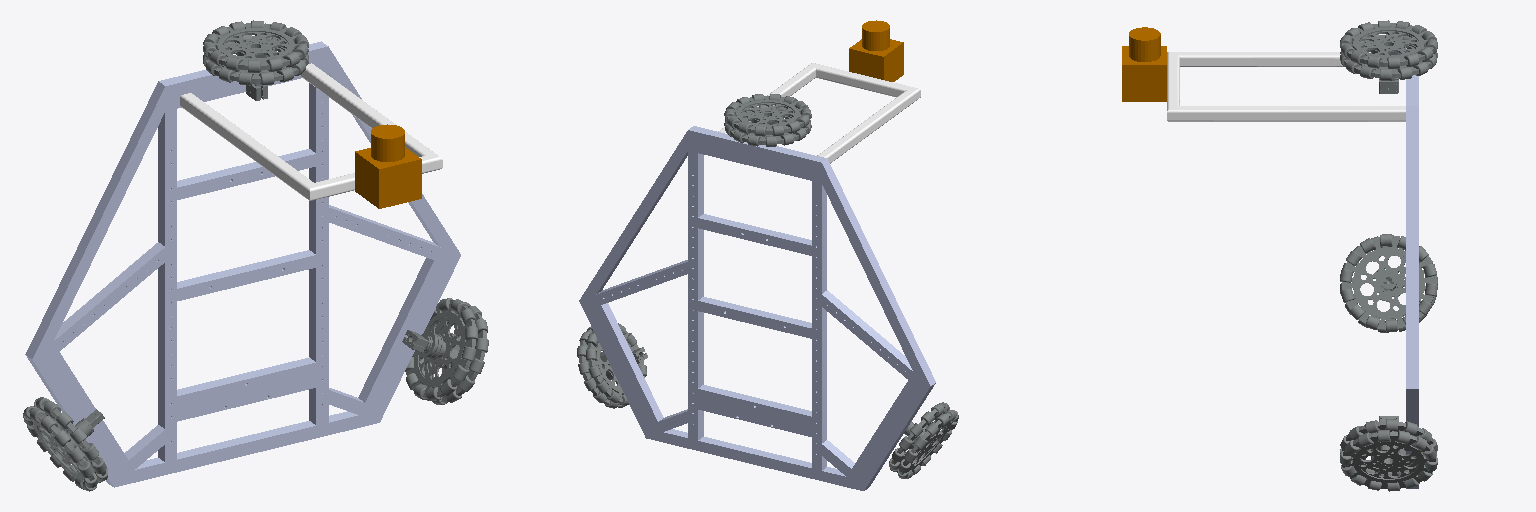
The robot description file, URDF, robot "xiangquancars":
<?xml version="1.0" encoding="utf-8"?>
<!-- This URDF was automatically created by SolidWorks to URDF Exporter! Originally created by [author] ([email redacted]) 
     Commit Version: 1.6.0-4-g7f85cfe  Build Version: 1.6.7995.38578
     For more information, please see http://wiki.ros.org/sw_urdf_exporter -->
<robot
  name="xiangquancars">
  <link
    name="base_link">
    <inertial>
      <origin
        xyz="0.135012009163579 -0.01 -0.34251867420735"
        rpy="0 0 0" />
      <mass
        value="2.15731792123271" />
      <inertia
        ixx="0.077714394818515"
        ixy="-3.24754536479821E-19"
        ixz="3.41867749109593E-06"
        iyy="0.151582220798309"
        iyz="-5.37521404282621E-18"
        izz="0.0740116471745425" />
    </inertial>
    <visual>
      <origin
        xyz="0 0 0"
        rpy="0 0 0" />
      <geometry>
        <mesh
          filename="package://xiangquancars/meshes/base_link.STL" />
      </geometry>
      <material
        name="">
        <color
          rgba="0.792156862745098 0.819607843137255 0.933333333333333 1" />
      </material>
    </visual>
    <collision>
      <origin
        xyz="0 0 0"
        rpy="0 0 0" />
      <geometry>
        <mesh
          filename="package://xiangquancars/meshes/base_link.STL" />
      </geometry>
    </collision>
  </link>
  <link
    name="A_wheel">
    <inertial>
      <origin
        xyz="-0.0633154932852962 -0.0286354919950985 0.00966380806253122"
        rpy="0 0 0" />
      <mass
        value="0.552862123998363" />
      <inertia
        ixx="0.000386629247402716"
        ixy="-0.000103264981827922"
        ixz="1.03469120540752E-06"
        iyy="0.000420834137350362"
        iyz="1.19990651368242E-06"
        izz="0.000295306068033301" />
    </inertial>
    <visual>
      <origin
        xyz="0 0 0"
        rpy="0 0 0" />
      <geometry>
        <mesh
          filename="package://xiangquancars/meshes/A_wheel.STL" />
      </geometry>
      <material
        name="">
        <color
          rgba="0.529411764705882 0.549019607843137 0.549019607843137 1" />
      </material>
    </visual>
    <collision>
      <origin
        xyz="0 0 0"
        rpy="0 0 0" />
      <geometry>
        <mesh
          filename="package://xiangquancars/meshes/A_wheel.STL" />
      </geometry>
    </collision>
  </link>
  <joint
    name="A_wheel"
    type="fixed">
    <origin
      xyz="0.0752254372121732 -0.0144894461303554 0.0415000000000001"
      rpy="-1.5707963267949 -0.706621920095397 2.80499344070519" />
    <parent
      link="base_link" />
    <child
      link="A_wheel" />
    <axis
      xyz="-0.649268249707963 0.760559491375368 0" />
  </joint>
  <link
    name="B_wheel">
    <inertial>
      <origin
        xyz="-0.0643008339790522 -0.0275639301432439 0.00977194749589866"
        rpy="0 0 0" />
      <mass
        value="0.587356590698773" />
      <inertia
        ixx="0.000391237308741192"
        ixy="-0.000107303593018306"
        ixz="6.46903269603801E-07"
        iyy="0.000425819438449392"
        iyz="1.45709546281757E-06"
        izz="0.000303633656277911" />
    </inertial>
    <visual>
      <origin
        xyz="0 0 0"
        rpy="0 0 0" />
      <geometry>
        <mesh
          filename="package://xiangquancars/meshes/B_wheel.STL" />
      </geometry>
      <material
        name="">
        <color
          rgba="0.529411764705882 0.549019607843137 0.549019607843137 1" />
      </material>
    </visual>
    <collision>
      <origin
        xyz="0 0 0"
        rpy="0 0 0" />
      <geometry>
        <mesh
          filename="package://xiangquancars/meshes/B_wheel.STL" />
      </geometry>
    </collision>
  </link>
  <joint
    name="B_wheel"
    type="fixed">
    <origin
      xyz="0.464756497888794 0.0203801440269274 -0.507774205882736"
      rpy="0.605610009666 0.1072970097415 0.806734396814752" />
    <parent
      link="base_link" />
    <child
      link="B_wheel" />
    <axis
      xyz="-0.687881235804038 0.551443986385019 -0.471941665154189" />
  </joint>
  <link
    name="C_wheel">
    <inertial>
      <origin
        xyz="-0.0586976224812866 -0.0334898811864578 0.0110216647816704"
        rpy="0 0 0" />
      <mass
        value="0.444837167197507" />
      <inertia
        ixx="0.000374245789326278"
        ixy="-0.000101510368884489"
        ixz="3.49790854466878E-08"
        iyy="0.000407966742314441"
        iyz="-7.74730768956127E-08"
        izz="0.000287928501177608" />
    </inertial>
    <visual>
      <origin
        xyz="0 0 0"
        rpy="0 0 0" />
      <geometry>
        <mesh
          filename="package://xiangquancars/meshes/C_wheel.STL" />
      </geometry>
      <material
        name="">
        <color
          rgba="0.529411764705882 0.549019607843137 0.549019607843137 1" />
      </material>
    </visual>
    <collision>
      <origin
        xyz="0 0 0"
        rpy="0 0 0" />
      <geometry>
        <mesh
          filename="package://xiangquancars/meshes/C_wheel.STL" />
      </geometry>
    </collision>
  </link>
  <joint
    name="C_wheel"
    type="fixed">
    <origin
      xyz="-0.154676585707583 -0.043545182759587 -0.577194650143489"
      rpy="-1.07310007522592 1.36626569929321 -2.70895848810084" />
    <parent
      link="base_link" />
    <child
      link="C_wheel" />
    <axis
      xyz="-0.184394171652797 0.98125673423585 -0.0559822380516659" />
  </joint>
  <link
    name="Support">
    <inertial>
      <origin
        xyz="5.7726124569335E-07 0.0392997247589532 -1.52576973624918E-09"
        rpy="0 0 0" />
      <mass
        value="0.123004518180591" />
      <inertia
        ixx="0.00104988830297272"
        ixy="-3.99955935815525E-11"
        ixz="5.05800497107023E-11"
        iyy="0.000101867997168318"
        iyz="7.63651478513199E-11"
        izz="0.00113902100760953" />
    </inertial>
    <visual>
      <origin
        xyz="0 0 0"
        rpy="0 0 0" />
      <geometry>
        <mesh
          filename="package://xiangquancars/meshes/Support.STL" />
      </geometry>
      <material
        name="">
        <color
          rgba="1 1 1 1" />
      </material>
    </visual>
    <collision>
      <origin
        xyz="0 0 0"
        rpy="0 0 0" />
      <geometry>
        <mesh
          filename="package://xiangquancars/meshes/Support.STL" />
      </geometry>
    </collision>
  </link>
  <joint
    name="Support"
    type="fixed">
    <origin
      xyz="0.135000108839613 -0.2 -0.03"
      rpy="3.14159265358979 0 0" />
    <parent
      link="base_link" />
    <child
      link="Support" />
    <axis
      xyz="0 0 0" />
  </joint>
  <link
    name="lidar">
    <inertial>
      <origin
        xyz="0.00923939493543101 0.0351277713819781 0"
        rpy="0 0 0" />
      <mass
        value="0.37887160632757" />
      <inertia
        ixx="0.000273312955975969"
        ixy="1.97215128083265E-06"
        ixz="3.62523695054526E-20"
        iyy="0.000389688247729574"
        iyz="-1.31116783985718E-20"
        izz="0.000389715458100048" />
    </inertial>
    <visual>
      <origin
        xyz="0 0 0"
        rpy="0 0 0" />
      <geometry>
        <mesh
          filename="package://xiangquancars/meshes/lidar.STL" />
      </geometry>
      <material
        name="">
        <color
          rgba="0.752941176470588 0.462745098039216 0 1" />
      </material>
    </visual>
    <collision>
      <origin
        xyz="0 0 0"
        rpy="0 0 0" />
      <geometry>
        <mesh
          filename="package://xiangquancars/meshes/lidar.STL" />
      </geometry>
    </collision>
  </link>
  <joint
    name="lidar"
    type="fixed">
    <origin
      xyz="0.135000108839613 -0.46 0.01"
      rpy="0 1.5707963267949 0" />
    <parent
      link="base_link" />
    <child
      link="lidar" />
    <axis
      xyz="0 0 0" />
  </joint>
</robot>

--- Render facts (derived) ---
Views: 3 orthographic renders of the robot side by side, from view 1: azimuth 30°, elevation 25°; view 2: azimuth 150°, elevation 25°; view 3: azimuth 270°, elevation 25°.
Robot: xiangquancars — 6 links, 5 joints (5 fixed); root link base_link; default pose: all joints at 0.
Visible links, largest first — view 1: base_link, B_wheel, A_wheel, Support, C_wheel, lidar; view 2: base_link, A_wheel, Support, C_wheel, B_wheel, lidar; view 3: Support, B_wheel, C_wheel, A_wheel, base_link, lidar.
Link boxes in pixels (x1,y1,x2,y2): base_link: (25,41,460,487); B_wheel: (402,298,488,404); A_wheel: (203,20,308,100); Support: (180,63,442,200); C_wheel: (23,397,107,491); lidar: (355,124,421,208); base_link: (579,126,935,490); A_wheel: (724,94,811,146); Support: (718,63,920,163); C_wheel: (889,402,958,478); B_wheel: (577,323,647,408); lidar: (849,20,903,81); Support: (1167,52,1405,121); B_wheel: (1340,416,1437,491); C_wheel: (1340,234,1437,332); A_wheel: (1340,20,1437,93); base_link: (1406,48,1418,488); lidar: (1122,27,1166,101).
Size in the robot's own frame: 0.7328 by 0.4905 by 0.6749 metres.
Meshes: 6 distinct files referenced, 6 mesh visuals loaded (6 binary STL).